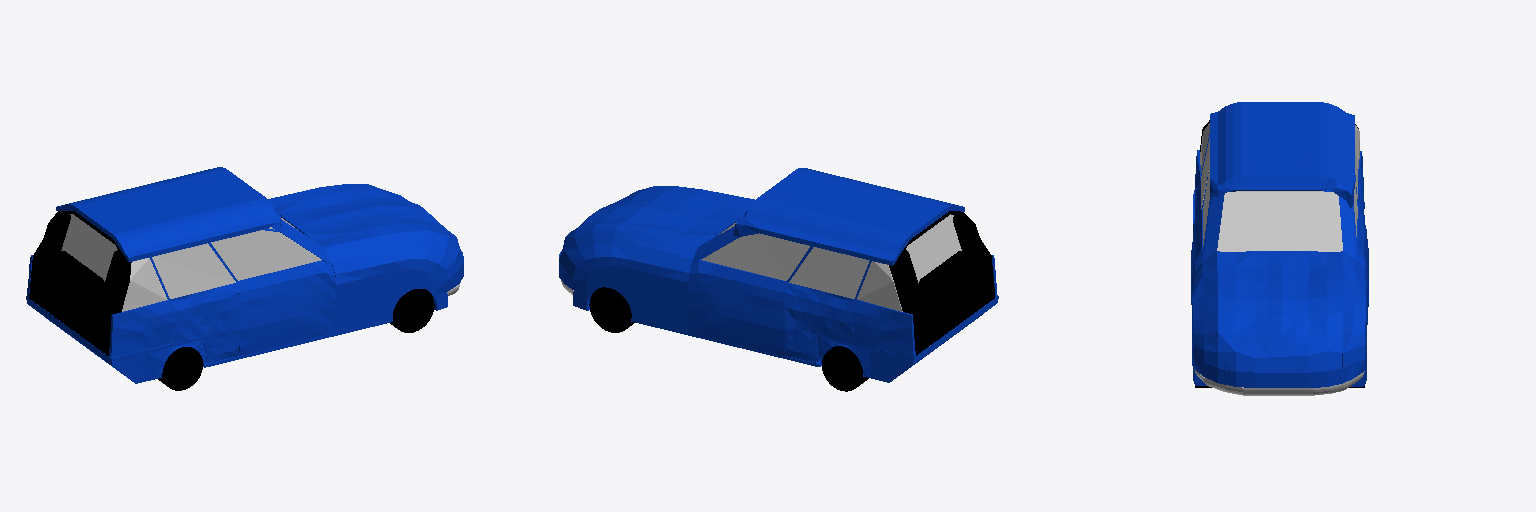
File: avtomobil2.obj
The picture shows the model from 3 angles: view 1: azimuth 30°, elevation 25°; view 2: azimuth 150°, elevation 25°; view 3: azimuth 270°, elevation 25°; orthographic projection.
Parts seen in each view (by area): view 1: Chassi, Top, Cube.004, Cube.008, Cube.002, Cube.009, Cube.021, Cube.013, Cube.006, Cube.014, Cylinder.001, Cylinder.004 (+2 smaller); view 2: Chassi, Top, Cube.004, Cube.010, Cube.001, Cube.007, Cube.012, Cube.020, Cube.006, Cylinder, Cylinder.003, Cube.011 (+2 smaller); view 3: Chassi, Top, Cube.022, Cube.005, Cube.010, Cube.008.
Boxes of the visible parts, x1=… form: Chassi: x1=27, y1=184, x2=463, y2=383; Top: x1=56, y1=167, x2=283, y2=261; Cube.004: x1=29, y1=211, x2=131, y2=355; Cube.008: x1=208, y1=243, x2=335, y2=355; Cube.002: x1=169, y1=283, x2=239, y2=361; Cube.009: x1=211, y1=227, x2=321, y2=280; Cube.021: x1=152, y1=243, x2=235, y2=298; Cube.013: x1=109, y1=257, x2=170, y2=357; Cube.006: x1=61, y1=214, x2=117, y2=281; Cube.014: x1=122, y1=258, x2=167, y2=311; Cylinder.001: x1=390, y1=289, x2=434, y2=332; Cylinder.004: x1=158, y1=347, x2=202, y2=390; Chassi: x1=559, y1=186, x2=997, y2=382; Top: x1=733, y1=168, x2=964, y2=265; Cube.004: x1=889, y1=211, x2=994, y2=355; Cube.010: x1=688, y1=246, x2=812, y2=356; Cube.001: x1=785, y1=283, x2=855, y2=362; Cube.007: x1=701, y1=233, x2=809, y2=280; Cube.012: x1=853, y1=261, x2=915, y2=357; Cube.020: x1=789, y1=247, x2=869, y2=298; Cube.006: x1=906, y1=214, x2=961, y2=282; Cylinder: x1=589, y1=287, x2=634, y2=332; Cylinder.003: x1=822, y1=346, x2=868, y2=391; Cube.011: x1=857, y1=261, x2=902, y2=311; Chassi: x1=1192, y1=193, x2=1366, y2=387; Top: x1=1210, y1=102, x2=1354, y2=208; Cube.022: x1=1217, y1=191, x2=1342, y2=251; Cube.005: x1=1194, y1=369, x2=1364, y2=395; Cube.010: x1=1355, y1=175, x2=1368, y2=324; Cube.008: x1=1191, y1=172, x2=1208, y2=304.
Size of the model in its own units: 14.72 by 5.66 by 6.05.